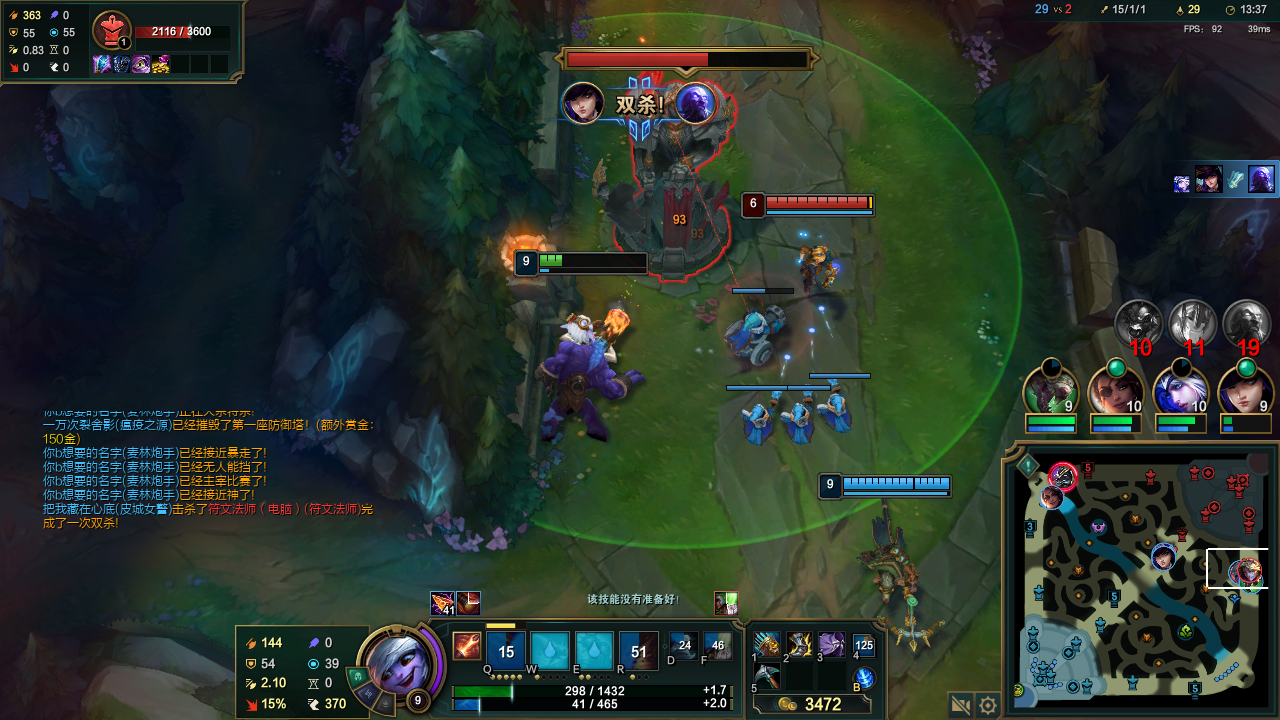DFFYT: (584, 49, 758, 272)
WFXB: (721, 302, 797, 365), (812, 379, 856, 443), (726, 393, 774, 444), (779, 383, 813, 448)
